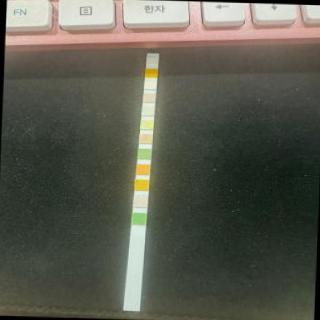mark: (132, 212, 146, 225), (134, 178, 148, 190), (136, 163, 150, 175), (134, 195, 146, 207), (140, 132, 152, 144), (138, 148, 151, 159), (143, 92, 155, 103), (144, 80, 156, 90), (146, 56, 158, 66), (142, 106, 154, 115), (140, 120, 152, 128), (146, 68, 156, 77)
